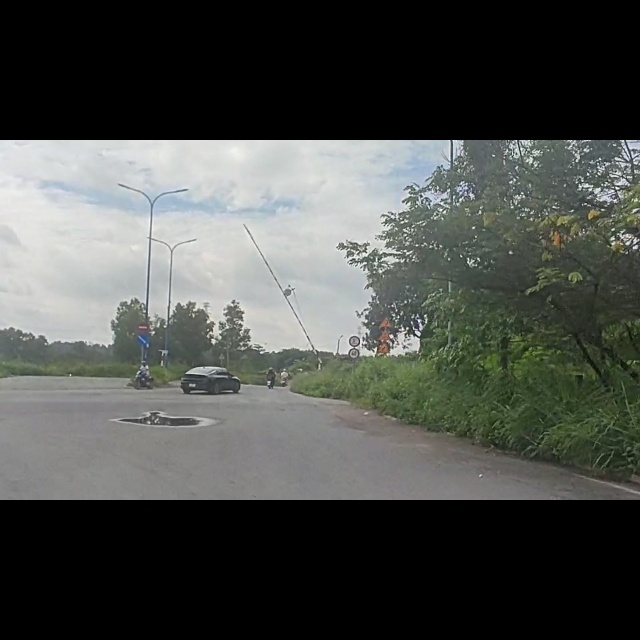bien_chi_dan: (375, 359, 396, 379), (135, 343, 151, 364), (348, 369, 363, 390), (138, 322, 150, 344)
